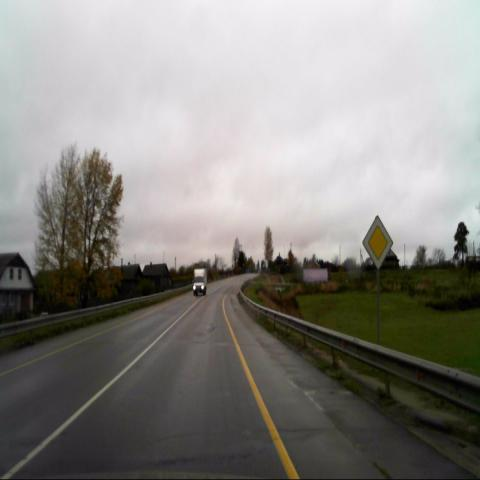2_1: (362, 214, 394, 270)
